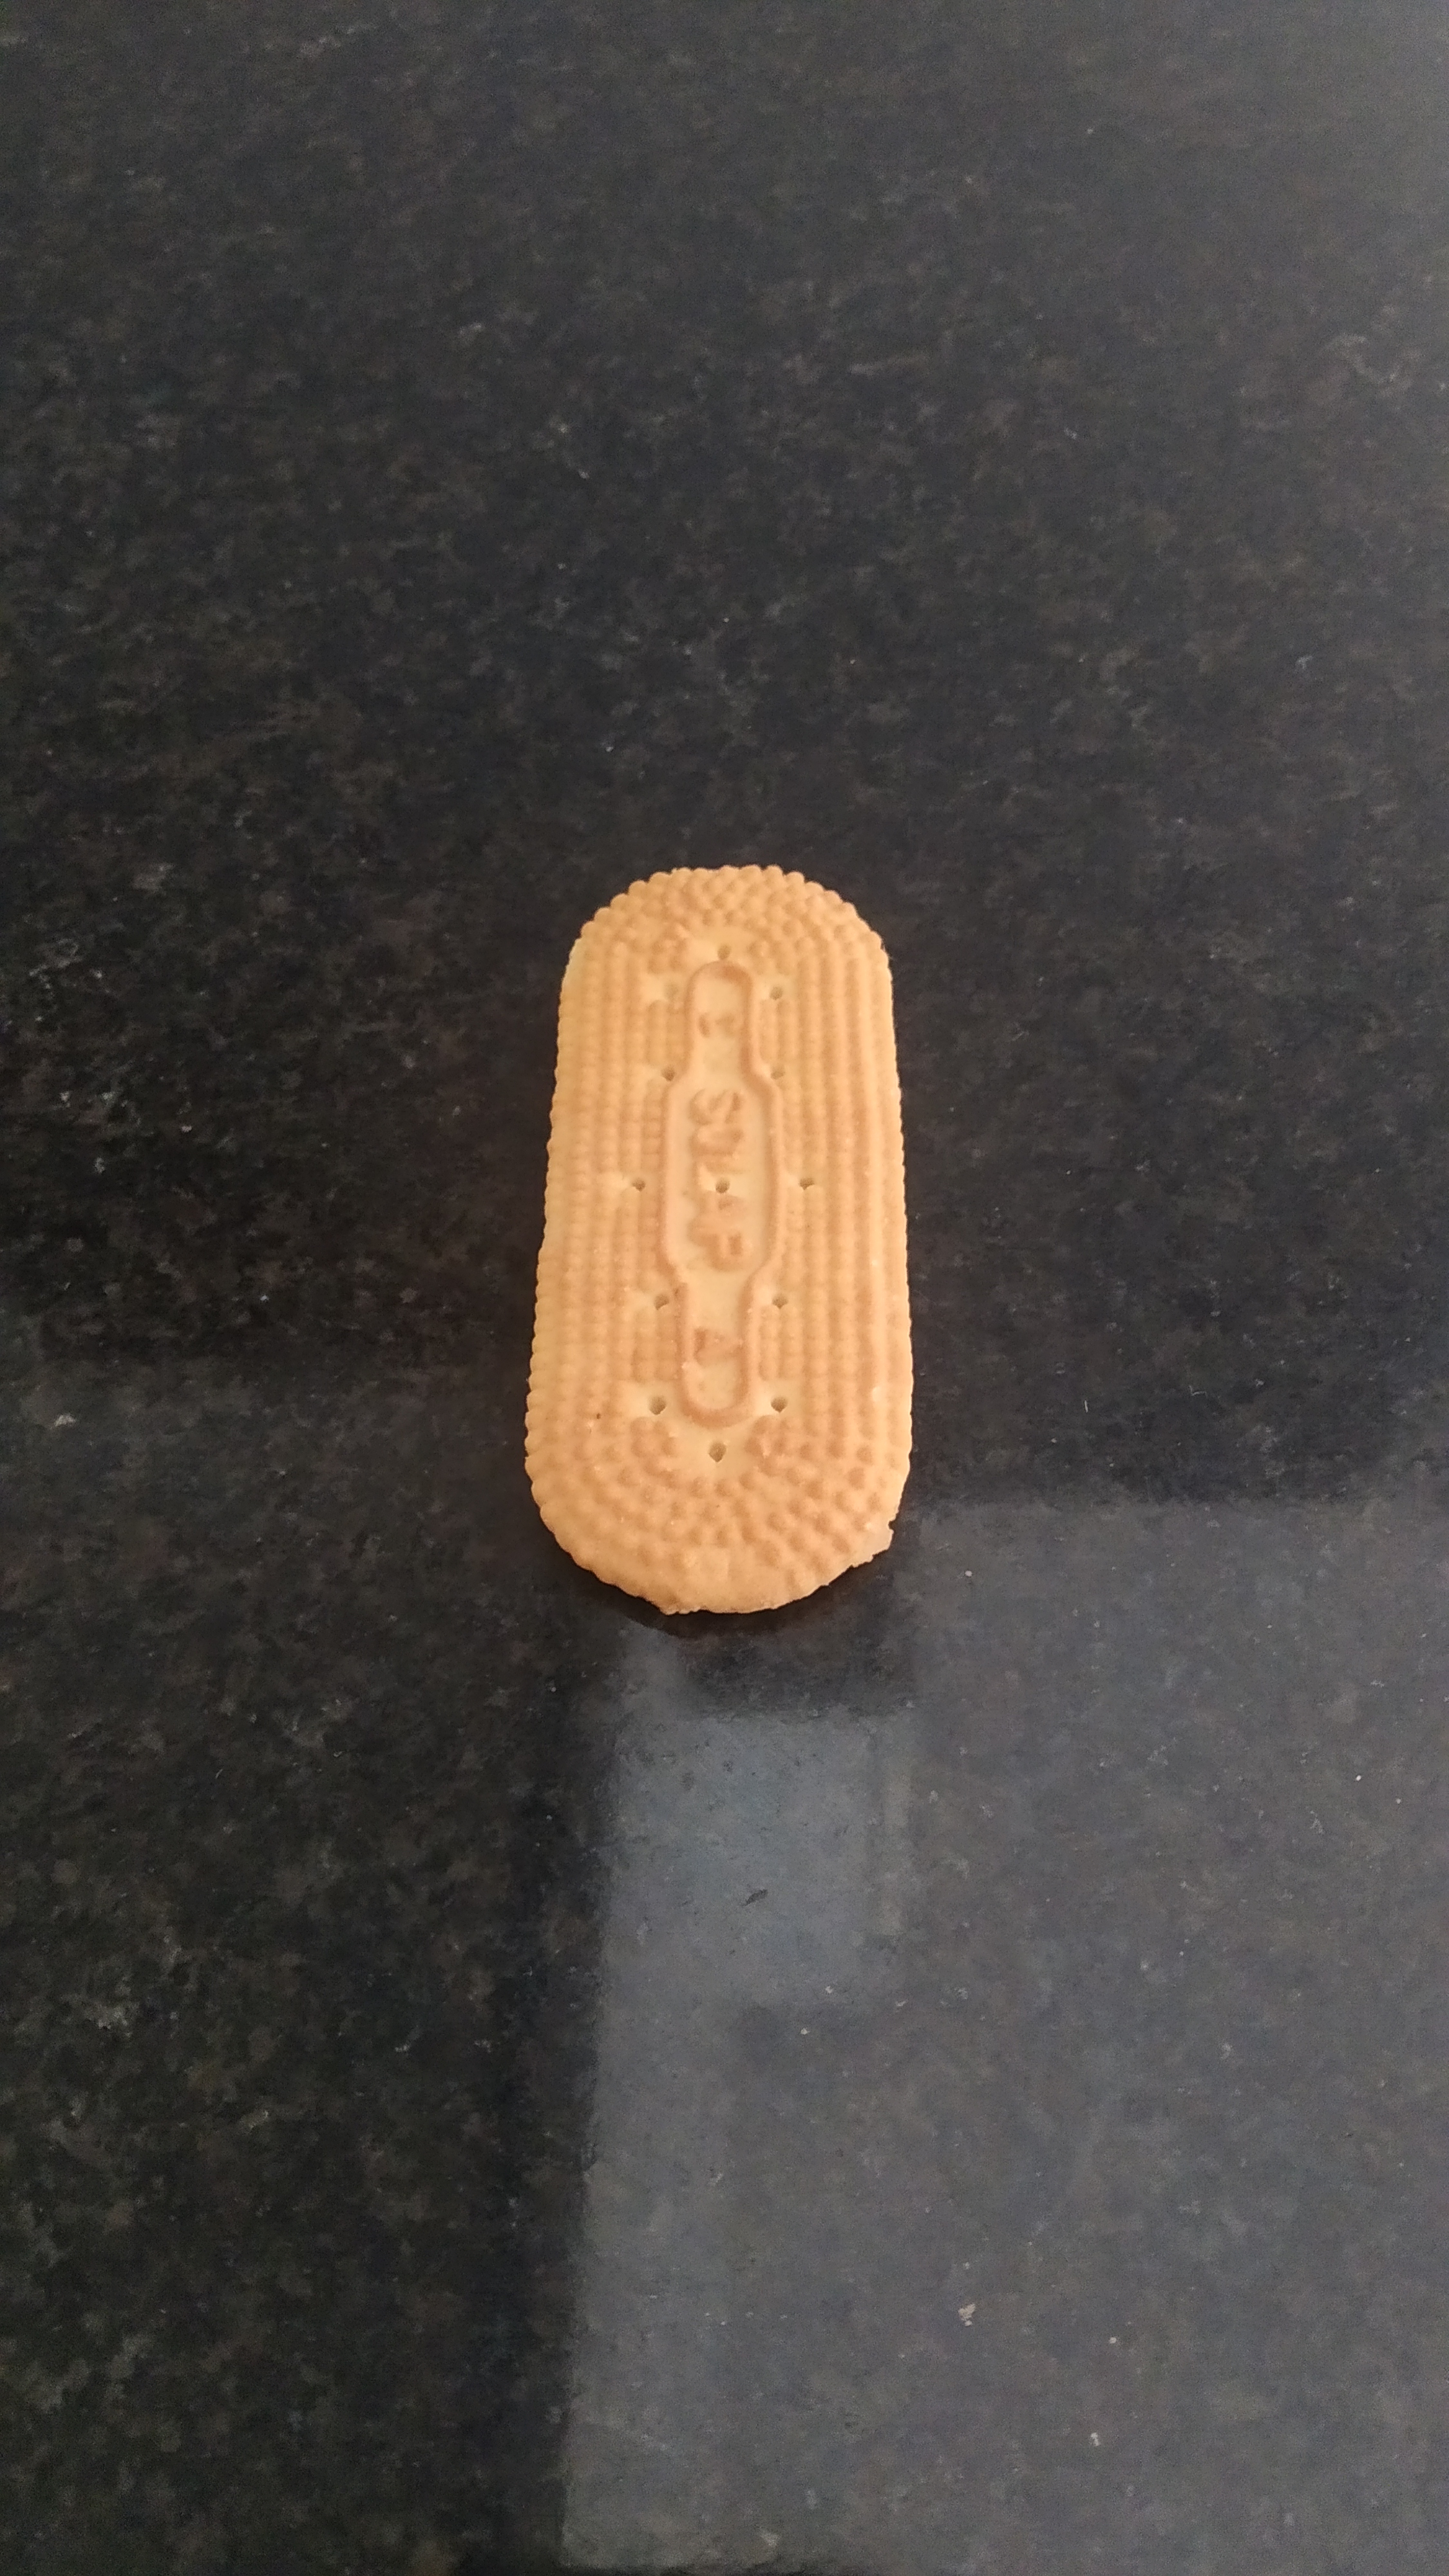solar: (522, 867, 916, 1617)
